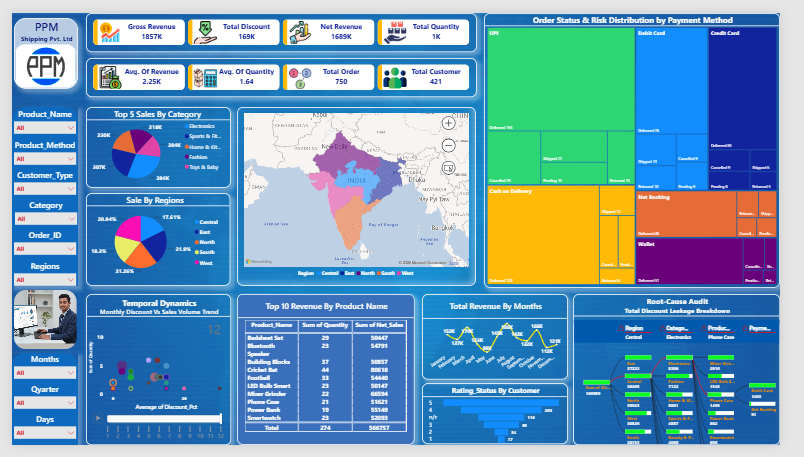

Layout of this report page (visuals, bound fields, positions):
{"tool":"powerbi","page":{"name":"Page 1","canvas":[1920,1080],"ordinal":0},"visuals":[{"type":"shape","title":"Filter","box":[0,850.7,165.2,297.1],"z":0},{"type":"filledMap","fields":{"Category":["Orders_Data.State"],"Series":["Orders_Data.Region"]},"box":[562.8,237.2,598.6,413.8],"z":1000},{"type":"shape","title":"PPM","box":[5,11.7,160,176.7],"z":2000},{"type":"pieChart","title":"Top 5 Sales By Category","fields":{"Category":["Orders_Data.Category"],"Y":["Sum(Orders_Data.Net_Sales)"]},"box":[185,235,361.7,201.7],"z":3000},{"type":"pieChart","title":"Sale By Regions","fields":{"Series":["Orders_Data.Region"],"Y":["Sum(Orders_Data.Net_Sales)"]},"box":[184.8,449.7,361.4,201.4],"z":4000},{"type":"treemap","title":"Order Status & Risk Distribution by Payment Method","fields":{"Details":["Orders_Data.Order_Status"],"Group":["Orders_Data.Payment_Method"],"Values":["CountNonNull(Orders_Data.Order_ID)"]},"box":[1180.7,0,739.3,651],"z":5000},{"type":"tableEx","title":"Top 10 Revenue By Product Name","fields":{"Values":["Orders_Data.Product_Name","Sum(Orders_Data.Quantity)","Sum(Orders_Data.Net_Sales)"]},"box":[562.8,671.3,444.1,377.9],"z":6000},{"type":"decompositionTreeVisual","title":"Root-Cause Audit","fields":{"Analyze":["Sum(Orders_Data.Discount_Amount)"],"ExplainBy":["Orders_Data.Region","Orders_Data.Category","Orders_Data.Product_Name","Orders_Data.Payment_Method"]},"box":[1401,671.1,518.6,408.2],"z":7000},{"type":"scatterChart","title":"Temporal Dynamics","fields":{"Category":["Orders_Data.Product_Name"],"Play":["Orders_Data.Month_Num"],"Size":["Sum(Orders_Data.Net_Sales)"],"X":["Avg(Orders_Data.Discount_Pct)"],"Y":["Sum(Orders_Data.Quantity)"]},"box":[184.5,674.2,363.9,405.2],"z":8000},{"type":"funnel","title":"Rating_Status By Customer","fields":{"Category":["Orders_Data.Rating"],"Y":["CountNonNull(Orders_Data.Rating)"]},"box":[1024.7,926.8,363.9,153.6],"z":9000},{"type":"lineChart","title":"Total Revenue By Months","fields":{"Category":["Orders_Data.Month"],"Y":["Sum(Orders_Data.Net_Sales)"]},"box":[1025.8,673.2,363.9,243.3],"z":10000},{"type":"slicer","title":"Days","fields":{"Values":["Orders_Data.Order_Date.Variation.Date Hierarchy.Day"]},"box":[0,1000,165.2,79.7],"z":11000},{"type":"slicer","title":"Qyarter","fields":{"Values":["Orders_Data.Quarter"]},"box":[0,925.4,165.2,79.7],"z":12000},{"type":"shape","title":"Filter","box":[0,234.8,165.2,447.8],"z":13000},{"type":"slicer","title":"Months","fields":{"Values":["Orders_Data.Month"]},"box":[0,850.7,165.2,79.7],"z":14000},{"type":"slicer","title":"Regions","fields":{"Values":["Orders_Data.Region"]},"box":[0,616.6,165.2,70],"z":15000},{"type":"slicer","title":"Product_Method","fields":{"Values":["Orders_Data.Payment_Method"]},"box":[0,313.8,165.2,70],"z":16000},{"type":"slicer","title":"Customer_Type","fields":{"Values":["Orders_Data.Customer_Type"]},"box":[0,389.5,165.2,70],"z":17000},{"type":"cardVisual","fields":{"Data":["Avg(Orders_Data.Net_Sales)","Avg(Orders_Data.Quantity)","Count(Orders_Data.Order_ID)","Count(Orders_Data.Customer_Name)"]},"box":[185,111.7,976.7,98.3],"z":18000},{"type":"slicer","title":"Product_Name","fields":{"Values":["Orders_Data.Product_Name"]},"box":[0,238.1,165,70],"z":19000},{"type":"slicer","title":"Category","fields":{"Values":["Orders_Data.Category"]},"box":[1.4,465.2,165.2,70],"z":20000},{"type":"slicer","title":"Order_ID","fields":{"Values":["Orders_Data.Order_ID"]},"box":[0,540.9,165.2,70],"z":21000},{"type":"cardVisual","fields":{"Data":["Sum(Orders_Data.Gross_Sales)","Sum(Orders_Data.Discount_Amount)","Sum(Orders_Data.Net_Sales)","Sum(Orders_Data.Quantity)"]},"box":[185,0,976.7,98.3],"z":22000},{"type":"image","box":[5.8,78.3,158,110.1],"z":23000},{"type":"image","box":[5.4,692.9,157.1,148.2],"z":24000},{"type":"textbox","box":[572.2,1027.8,399,51.5],"z":24001}]}

Visuals, with their boxes in screenshot pixels (x1, y1, x2, y2), scaled from the page's 1920x1080 canvas onto the 804x457 screenshot:
"Filter" shape: [left=0, top=360, right=69, bottom=456]
filledMap - Orders_Data.State x Orders_Data.Region: [left=236, top=100, right=486, bottom=275]
"PPM" shape: [left=2, top=5, right=69, bottom=80]
"Top 5 Sales By Category" pieChart: [left=77, top=99, right=229, bottom=185]
"Sale By Regions" pieChart: [left=77, top=190, right=229, bottom=276]
"Order Status & Risk Distribution by Payment Method" treemap: [left=494, top=0, right=803, bottom=275]
"Top 10 Revenue By Product Name" tableEx: [left=236, top=284, right=422, bottom=444]
"Root-Cause Audit" decompositionTreeVisual: [left=587, top=284, right=803, bottom=456]
"Temporal Dynamics" scatterChart: [left=77, top=285, right=230, bottom=456]
"Rating_Status By Customer" funnel: [left=429, top=392, right=581, bottom=456]
"Total Revenue By Months" lineChart: [left=430, top=285, right=582, bottom=388]
"Days" slicer: [left=0, top=423, right=69, bottom=456]
"Qyarter" slicer: [left=0, top=392, right=69, bottom=425]
"Filter" shape: [left=0, top=99, right=69, bottom=289]
"Months" slicer: [left=0, top=360, right=69, bottom=394]
"Regions" slicer: [left=0, top=261, right=69, bottom=291]
"Product_Method" slicer: [left=0, top=133, right=69, bottom=162]
"Customer_Type" slicer: [left=0, top=165, right=69, bottom=194]
cardVisual - Avg(Orders_Data.Net_Sales) x Avg(Orders_Data.Quantity): [left=77, top=47, right=486, bottom=89]
"Product_Name" slicer: [left=0, top=101, right=69, bottom=130]
"Category" slicer: [left=1, top=197, right=70, bottom=226]
"Order_ID" slicer: [left=0, top=229, right=69, bottom=259]
cardVisual - Sum(Orders_Data.Gross_Sales) x Sum(Orders_Data.Discount_Amount): [left=77, top=0, right=486, bottom=42]
image: [left=2, top=33, right=69, bottom=80]
image: [left=2, top=293, right=68, bottom=356]
textbox: [left=240, top=435, right=407, bottom=456]
